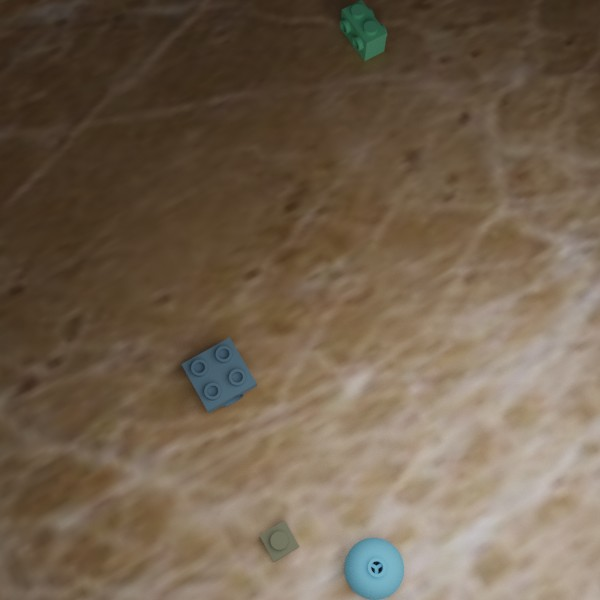lego: (181, 337, 257, 413), (344, 537, 404, 599), (339, 0, 387, 61), (259, 520, 299, 562)
